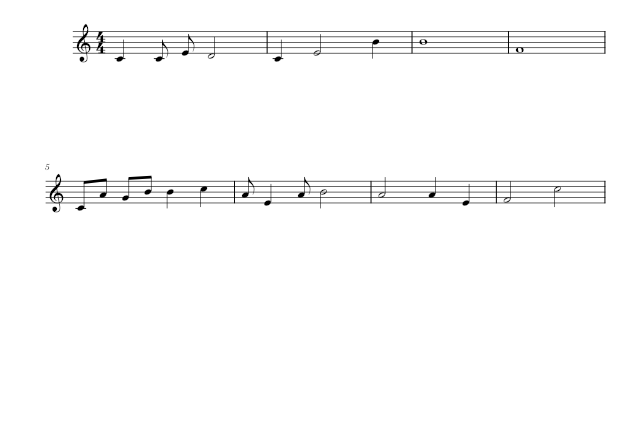Treble Clef: (46, 172, 68, 218), (71, 18, 92, 65)
